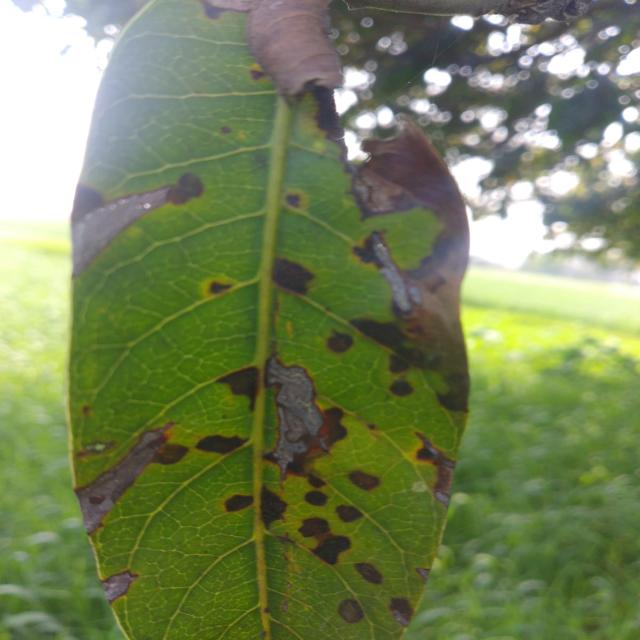Anthracnose: (268, 251, 320, 297), (300, 521, 354, 564), (197, 427, 256, 459), (215, 487, 254, 515), (295, 489, 340, 511), (204, 277, 236, 301)
Bacterial Cancer: (358, 124, 451, 207)
